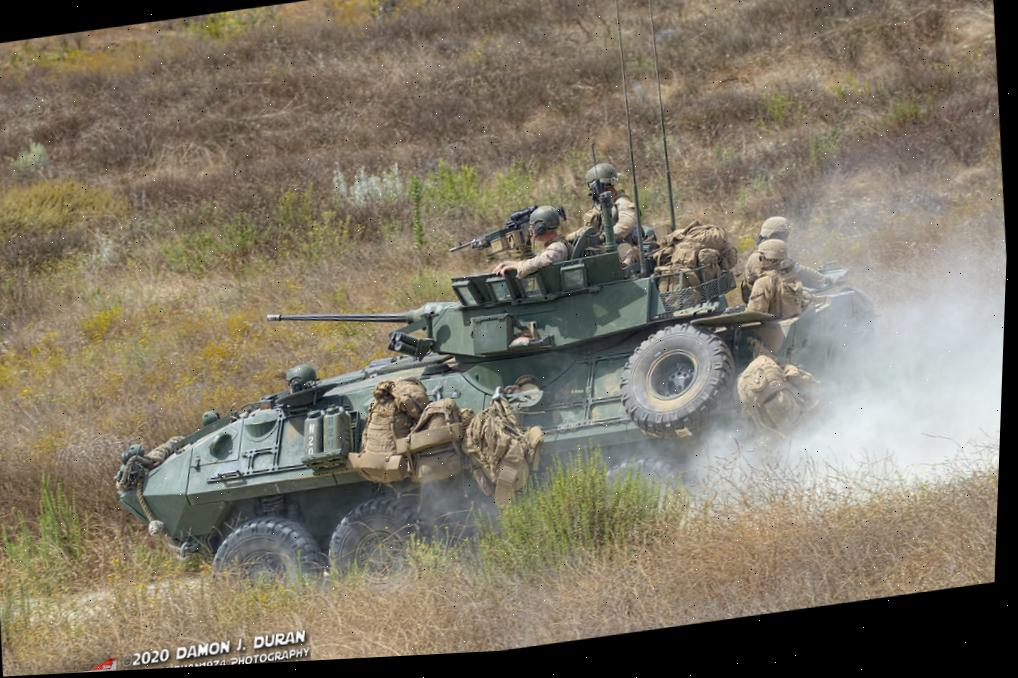armored_car: (58, 171, 903, 628)
